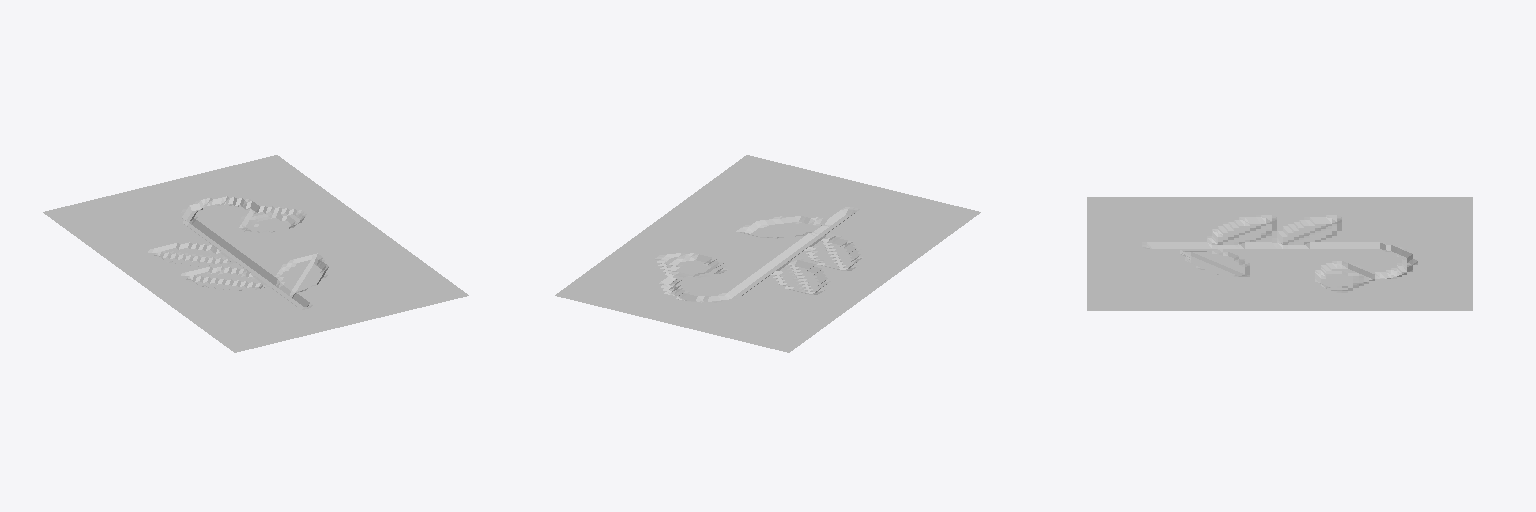
The model's file is snowdropflat.obj.
3 views of the same model, side by side, from view 1: azimuth 30°, elevation 25°; view 2: azimuth 150°, elevation 25°; view 3: azimuth 270°, elevation 25° (orthographic).
Visible parts, largest first — view 1: Plane.010; view 2: Plane.010; view 3: Plane.010.
Boxes of the visible parts, x1,y1,x2,y2 form: Plane.010: [43, 155, 468, 352]; Plane.010: [555, 155, 980, 352]; Plane.010: [1087, 197, 1472, 310].
Size of the model in its own units: 2.96 by 0.0493 by 4.2.